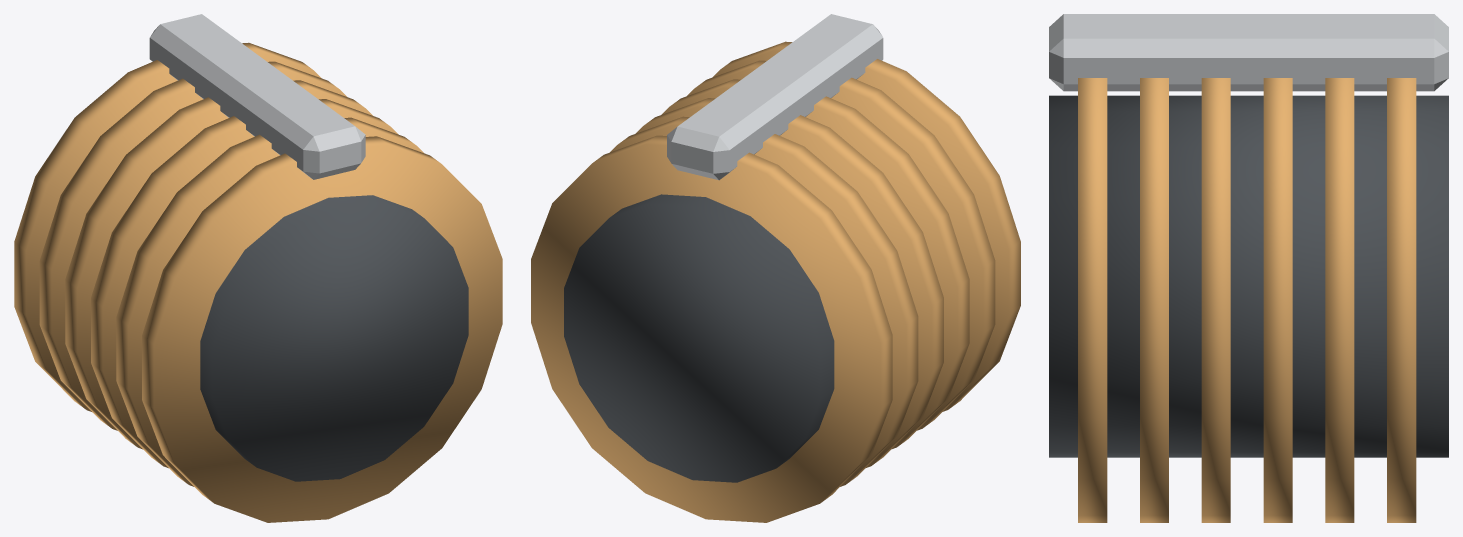
Rendered from part_chladic.glb.
The picture shows the model from 3 angles, left to right: view 1: azimuth 30°, elevation 25°; view 2: azimuth 150°, elevation 25°; view 3: azimuth 270°, elevation 25°; orthographic projection. The views are drawn at different scales.
Visible parts, largest first — view 1: Chladic; view 2: Chladic; view 3: Chladic.
Boxes of the visible parts, left/top/right/bottom form: Chladic: left=14, top=14, right=502, bottom=522; Chladic: left=531, top=14, right=1020, bottom=522; Chladic: left=1049, top=14, right=1448, bottom=522.
Bounding box in the file's own units: 0.067 × 0.072 × 0.055.
